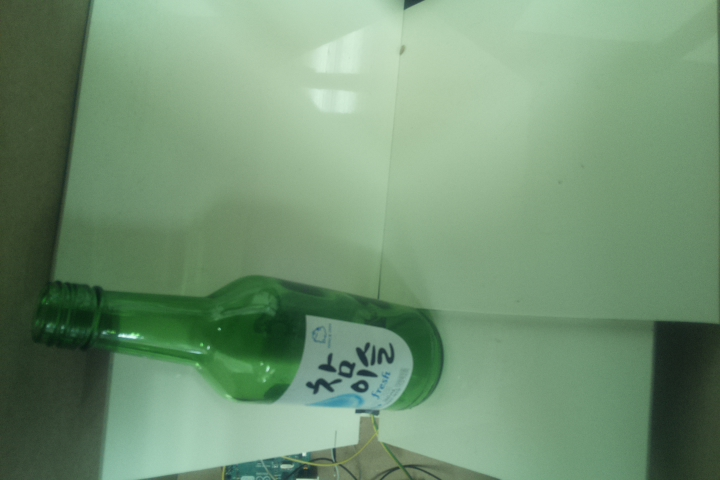soju: (30, 270, 443, 408)
